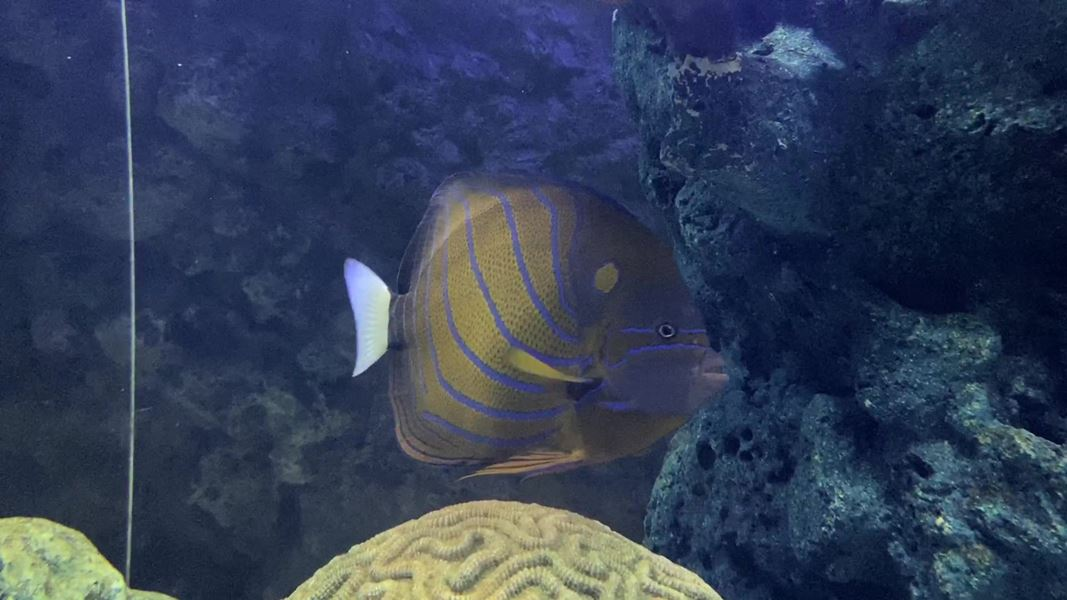Blue ring angelfish: (330, 169, 785, 510)
